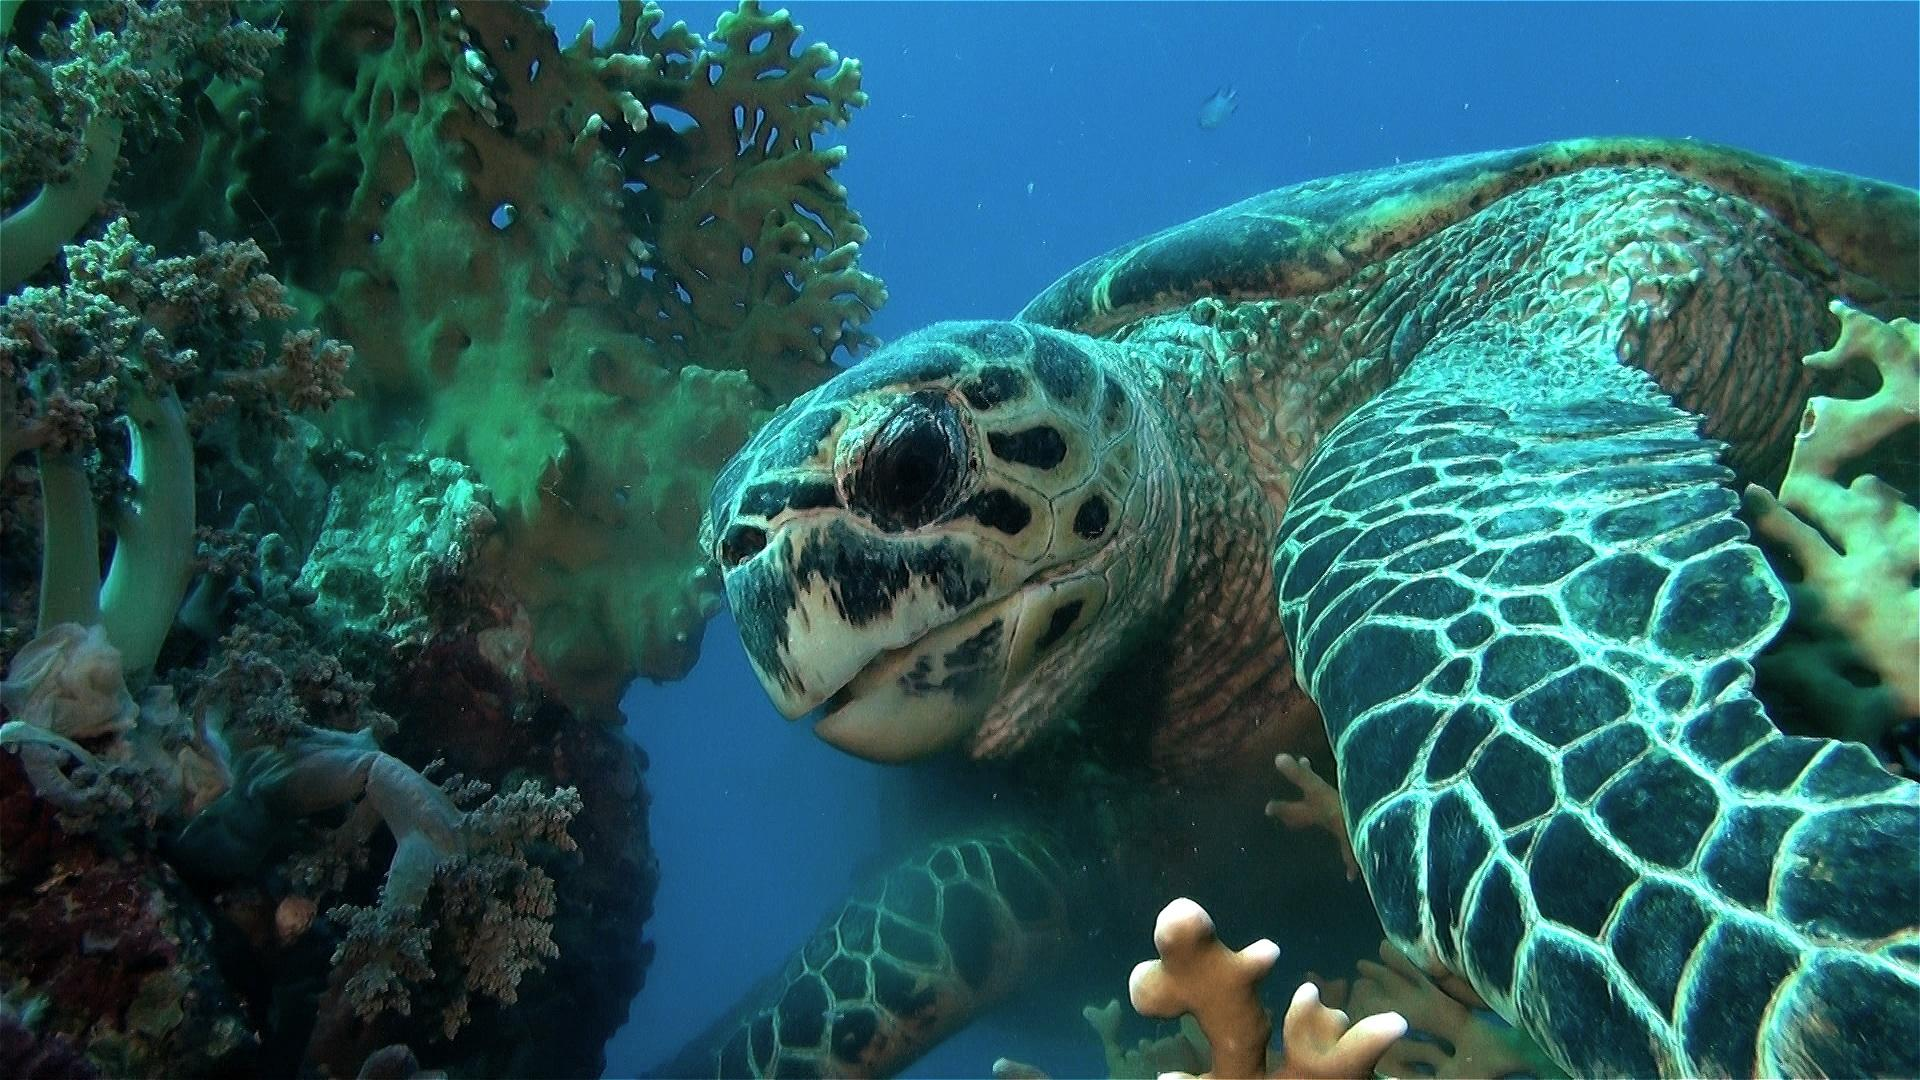turtle: (684, 285, 1216, 789)
